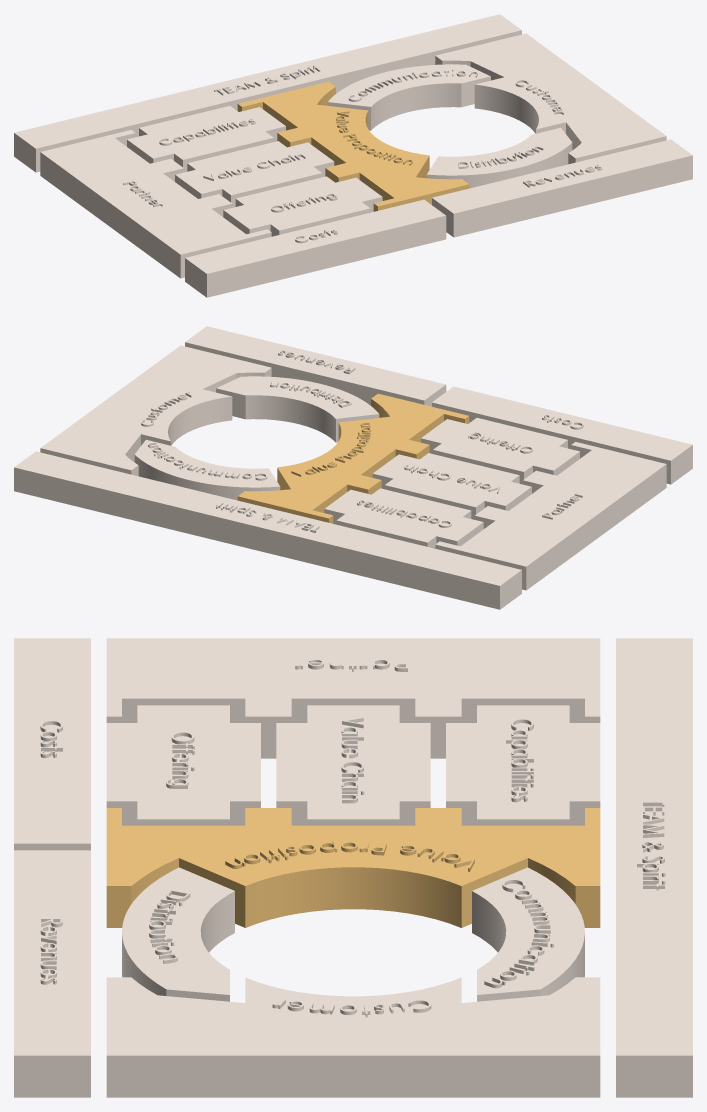
Rendered from 20250810_Canvas_glb.glb.
3 views of the same model, one above another, from view 1: azimuth 30°, elevation 25°; view 2: azimuth 150°, elevation 25°; view 3: azimuth 270°, elevation 25° (orthographic). The views are drawn at different scales.
Visible parts, largest first — view 1: 20250730_Partner-1, 20250730_Team-1, 20250730_Customer-1, 20250730_Costs-1, 20250730_Revenues-1, 20250730_Value Proposition_v3-1, 20250730_Value Chain-1, 20250730_Capabilities-1, 20250730_Offering-1, 20250730_Communication-1, 20250730_Distribution-1; view 2: 20250730_Team-1, 20250730_Partner-1, 20250730_Customer-1, 20250730_Value Proposition_v3-1, 20250730_Revenues-1, 20250730_Costs-1, 20250730_Value Chain-1, 20250730_Offering-1, 20250730_Capabilities-1, 20250730_Distribution-1, 20250730_Communication-1; view 3: 20250730_Customer-1, 20250730_Value Proposition_v3-1, 20250730_Partner-1, 20250730_Team-1, 20250730_Revenues-1, 20250730_Value Chain-1, 20250730_Offering-1, 20250730_Capabilities-1, 20250730_Costs-1, 20250730_Distribution-1, 20250730_Communication-1.
Part boxes in pixels (x1=…): 20250730_Partner-1: x1=40, y1=130, x2=271, y2=278; 20250730_Team-1: x1=14, y1=14, x2=521, y2=172; 20250730_Customer-1: x1=435, y1=33, x2=666, y2=164; 20250730_Costs-1: x1=185, y1=199, x2=446, y2=297; 20250730_Revenues-1: x1=432, y1=139, x2=692, y2=237; 20250730_Value Proposition_v3-1: x1=237, y1=81, x2=469, y2=211; 20250730_Value Chain-1: x1=175, y1=141, x2=334, y2=207; 20250730_Capabilities-1: x1=127, y1=106, x2=285, y2=172; 20250730_Offering-1: x1=223, y1=176, x2=382, y2=236; 20250730_Communication-1: x1=327, y1=64, x2=490, y2=130; 20250730_Distribution-1: x1=426, y1=127, x2=572, y2=188; 20250730_Team-1: x1=14, y1=451, x2=521, y2=609; 20250730_Partner-1: x1=435, y1=442, x2=666, y2=590; 20250730_Customer-1: x1=40, y1=345, x2=271, y2=476; 20250730_Value Proposition_v3-1: x1=237, y1=393, x2=469, y2=523; 20250730_Revenues-1: x1=185, y1=326, x2=446, y2=406; 20250730_Costs-1: x1=432, y1=386, x2=692, y2=484; 20250730_Value Chain-1: x1=372, y1=453, x2=531, y2=519; 20250730_Offering-1: x1=421, y1=418, x2=579, y2=484; 20250730_Capabilities-1: x1=324, y1=488, x2=483, y2=548; 20250730_Distribution-1: x1=216, y1=376, x2=379, y2=442; 20250730_Communication-1: x1=134, y1=439, x2=280, y2=500; 20250730_Customer-1: x1=106, y1=977, x2=600, y2=1097; 20250730_Value Proposition_v3-1: x1=106, y1=808, x2=600, y2=927; 20250730_Partner-1: x1=106, y1=638, x2=600, y2=758; 20250730_Team-1: x1=616, y1=638, x2=692, y2=1097; 20250730_Revenues-1: x1=14, y1=850, x2=90, y2=1097; 20250730_Value Chain-1: x1=276, y1=705, x2=430, y2=825; 20250730_Offering-1: x1=106, y1=705, x2=260, y2=825; 20250730_Capabilities-1: x1=446, y1=705, x2=600, y2=825; 20250730_Costs-1: x1=14, y1=638, x2=90, y2=850; 20250730_Distribution-1: x1=122, y1=867, x2=234, y2=1001; 20250730_Communication-1: x1=472, y1=867, x2=584, y2=1001.
Bounding box in the file's own units: 1.28 × 0.065 × 0.88.
